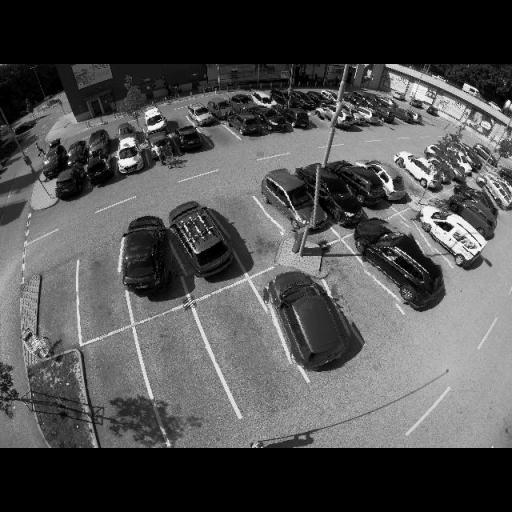busy: (262, 267, 356, 370), (360, 218, 444, 306), (110, 210, 178, 296), (165, 198, 233, 276), (260, 168, 320, 232), (305, 161, 359, 228), (424, 206, 478, 264), (449, 192, 495, 242), (340, 162, 384, 204), (82, 132, 115, 188), (396, 152, 442, 192), (366, 160, 408, 203), (112, 126, 146, 178), (50, 164, 84, 201), (480, 175, 512, 210), (254, 106, 288, 136), (148, 134, 178, 166), (323, 101, 354, 131), (172, 124, 202, 154), (228, 110, 260, 136), (38, 149, 64, 179), (286, 106, 311, 132), (188, 103, 215, 127), (142, 106, 167, 130), (64, 141, 86, 168), (271, 89, 300, 109), (248, 90, 275, 108), (207, 98, 233, 116), (230, 92, 252, 108)
free: (152, 348, 212, 406), (216, 314, 274, 370), (87, 369, 140, 415), (80, 270, 122, 312), (330, 272, 374, 310), (40, 287, 75, 332), (406, 221, 438, 257), (230, 214, 266, 245), (394, 168, 418, 189), (167, 116, 185, 132), (308, 114, 324, 130), (210, 129, 226, 141)
